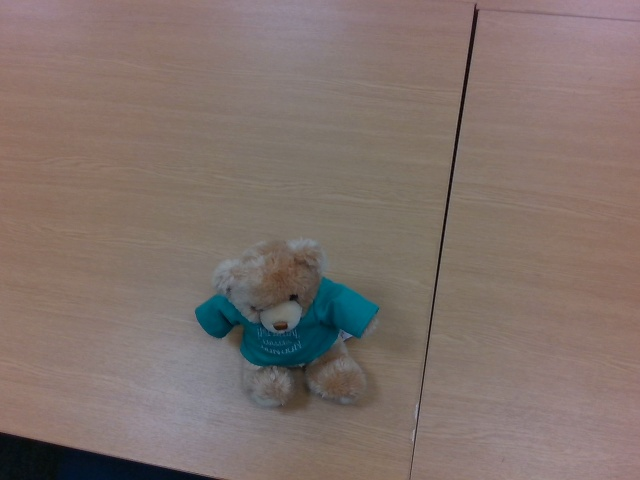teddy: (196, 238, 385, 406)
